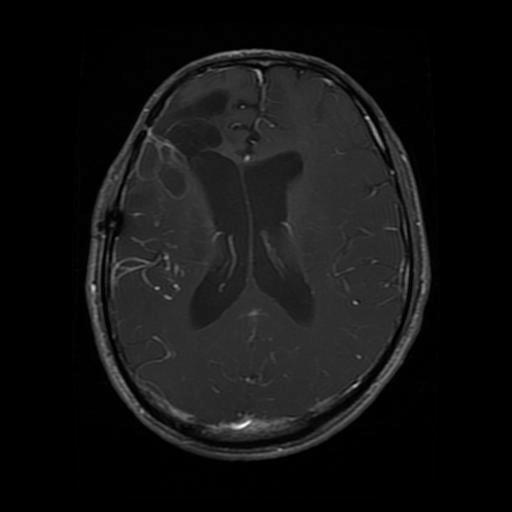Tumour-Glioma: (163, 92, 241, 162)
